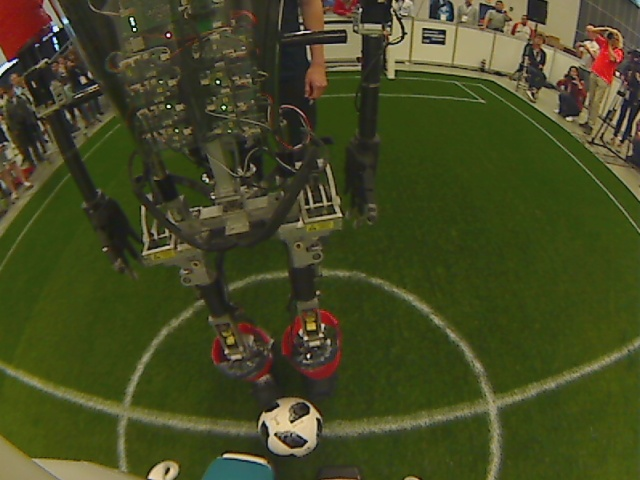ball: (253, 394, 327, 463)
